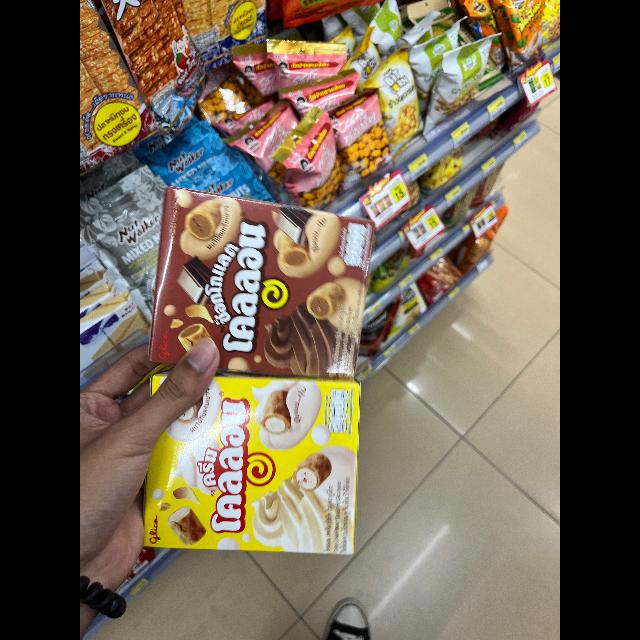cardboard_box: (130, 190, 380, 384), (134, 373, 368, 561)
